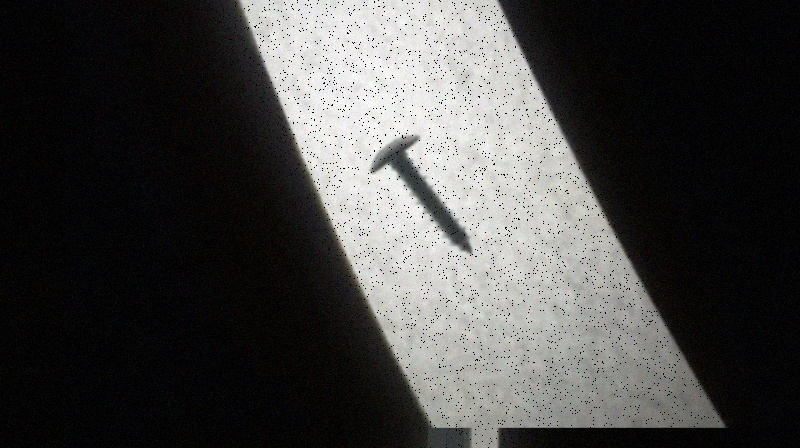S003: (364, 129, 478, 259)
